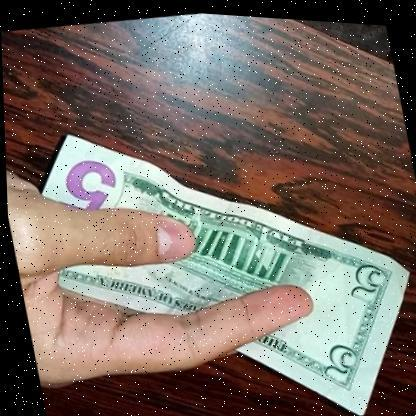dollar_back: (21, 87, 416, 416)
